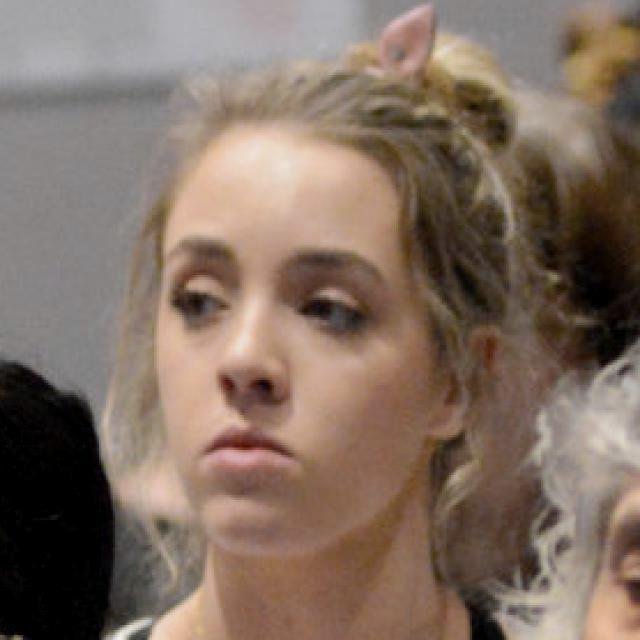Looking forward: (154, 142, 442, 554)
